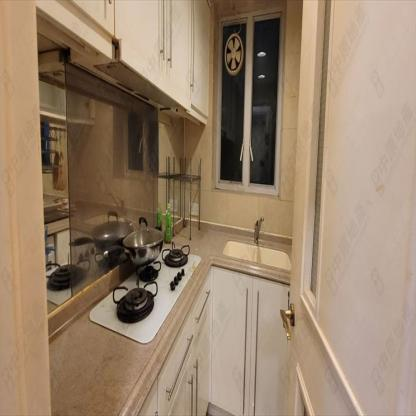Cupboard: (138, 262, 289, 415), (51, 0, 211, 117)
Exhaust Hood: (83, 37, 193, 111)
Faucet: (251, 210, 269, 246)
Sink: (219, 237, 292, 271)
Stove: (89, 246, 204, 346)
